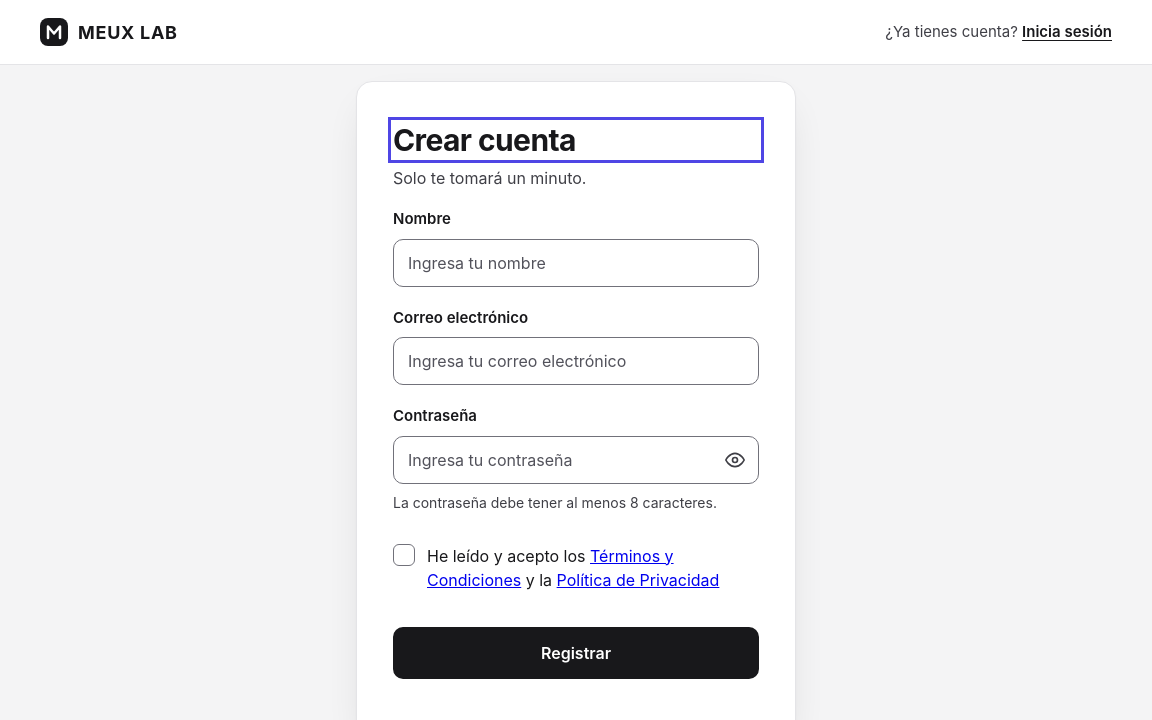
it: RegisterScreen › it shows "This email is already registered" and focuses the email field upon receiving a 409 error
Type "User" into the field labelled "Nombre". click: (576, 262)
box: [393,238,759,286]
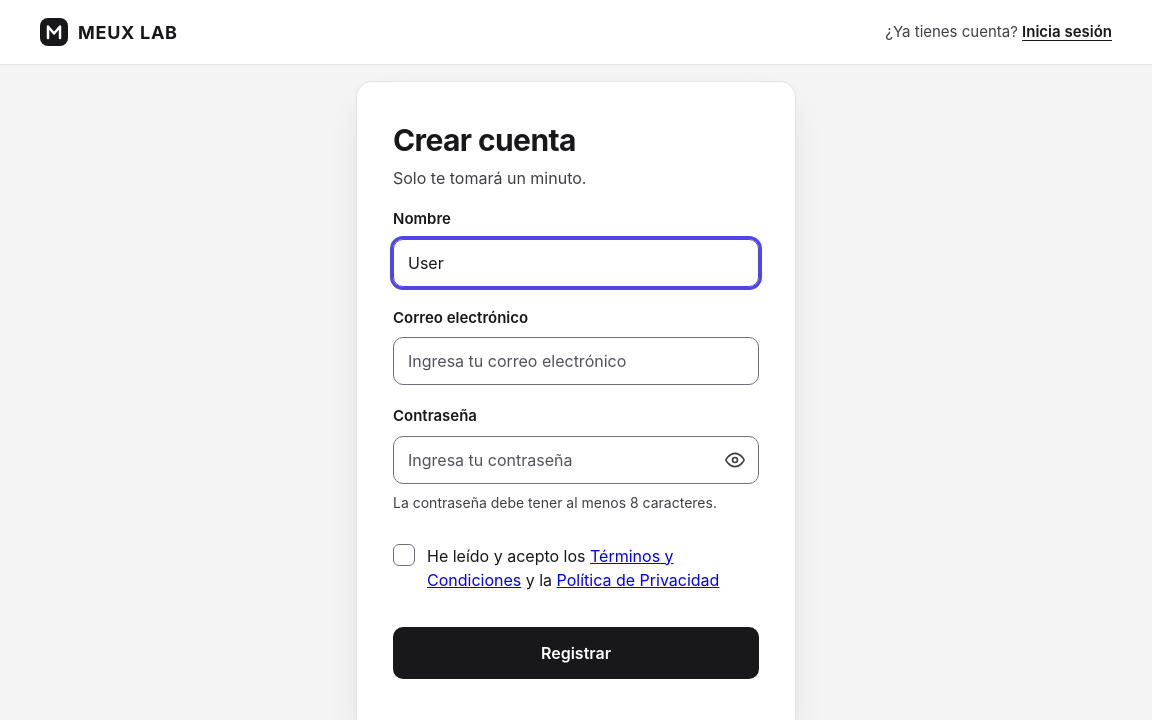
Type "user@mail.com" into the field labelled "Correo electrónico". click: (576, 361)
box: [393,337,759,385]
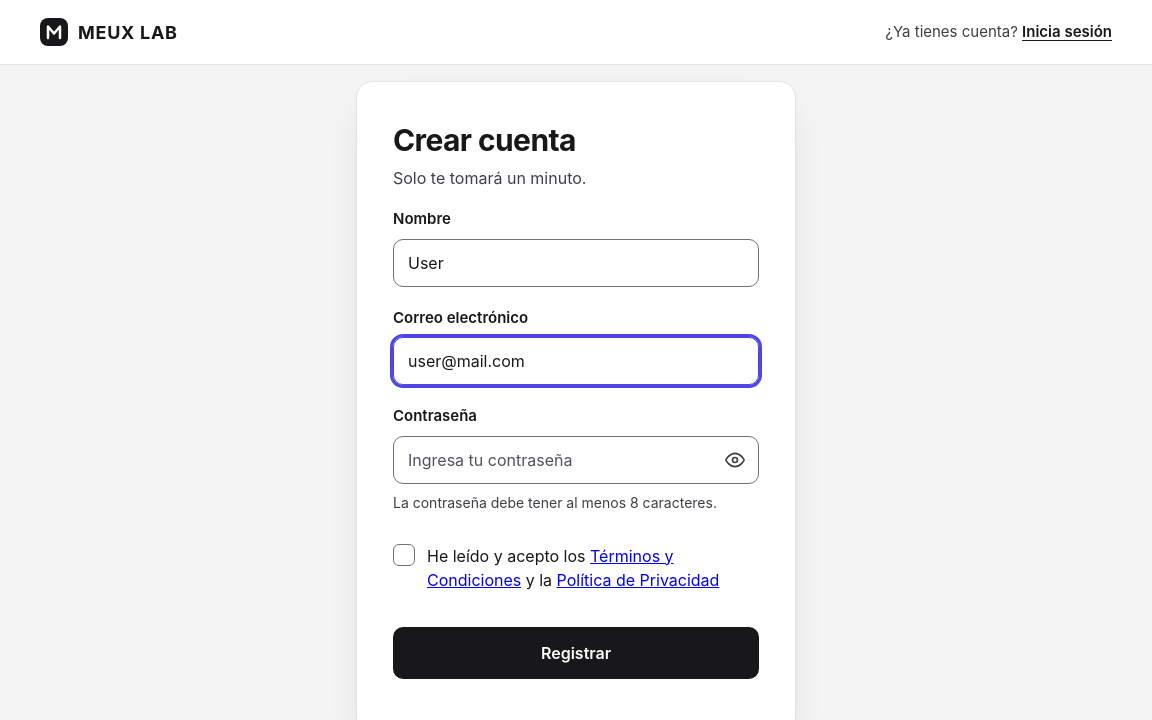
Type "secret123" into the password field labelled "Contraseña". click: (576, 460)
box: [393,436,759,484]
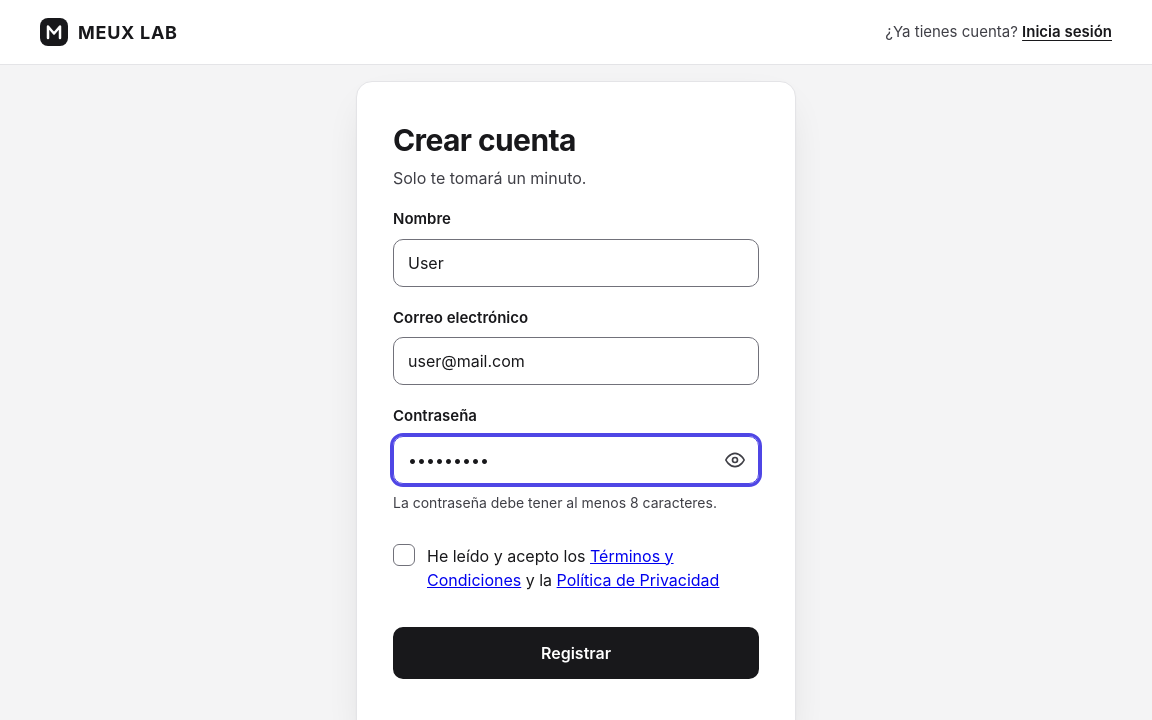
Click the checkbox labelled "He leído y acepto los Términos y Condiciones y la Política de Privacidad". click: (404, 554)
box: [393,544,415,566]
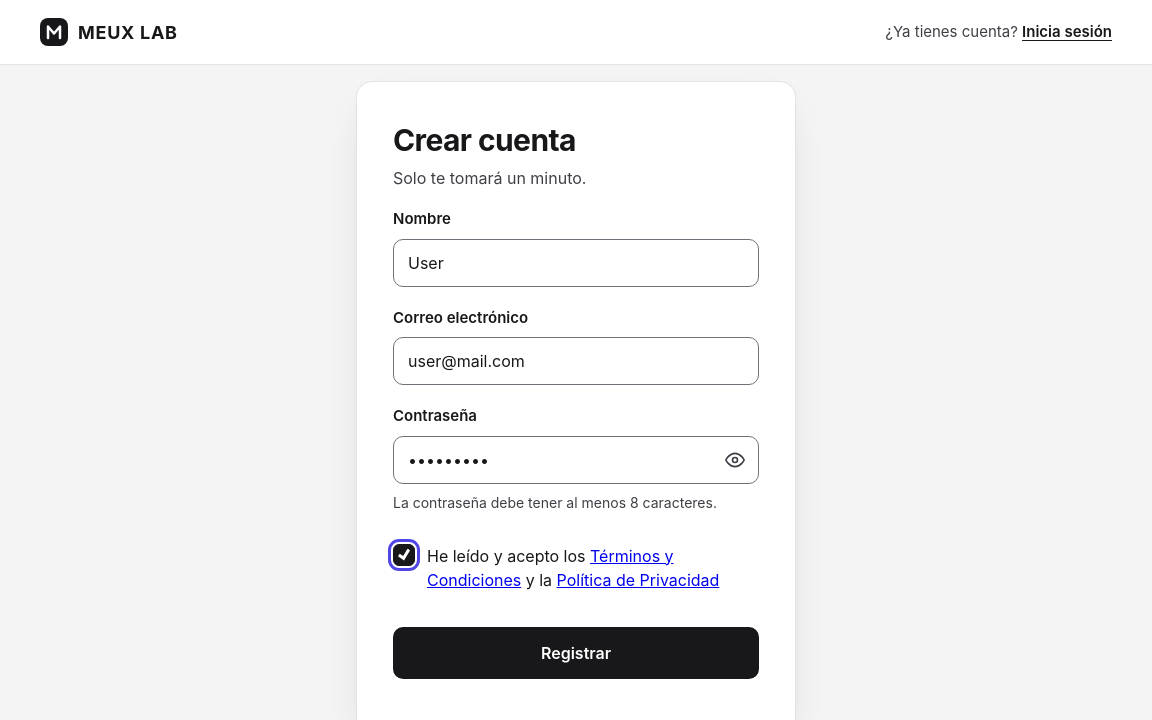
Click the button "Registrar". click: (576, 652)
box: [393,626,759,678]
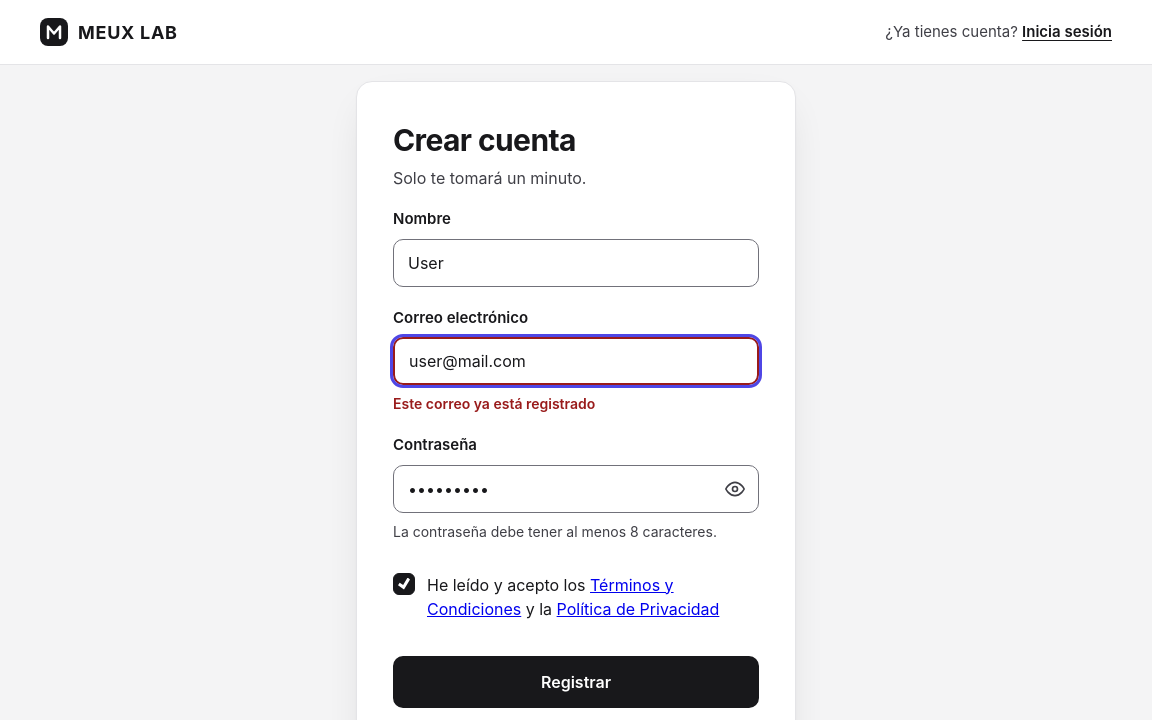
Expected: the text "Este correo ya está registrado" is shown, [393,395,595,412]
